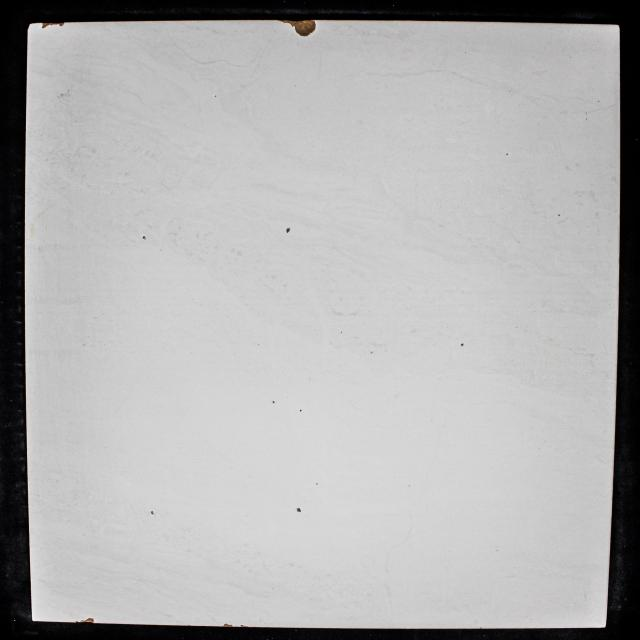edge-chipping: (277, 20, 317, 38), (40, 22, 66, 29), (86, 618, 95, 624), (223, 623, 233, 627), (240, 624, 248, 628), (75, 620, 85, 623)
hole: (285, 227, 291, 234), (296, 507, 302, 513), (142, 235, 147, 240), (150, 510, 154, 515), (272, 400, 275, 404), (214, 94, 217, 98), (461, 343, 464, 346), (506, 153, 509, 156), (299, 409, 302, 412), (340, 331, 342, 334), (370, 351, 372, 354), (316, 483, 318, 485), (558, 214, 560, 216)
